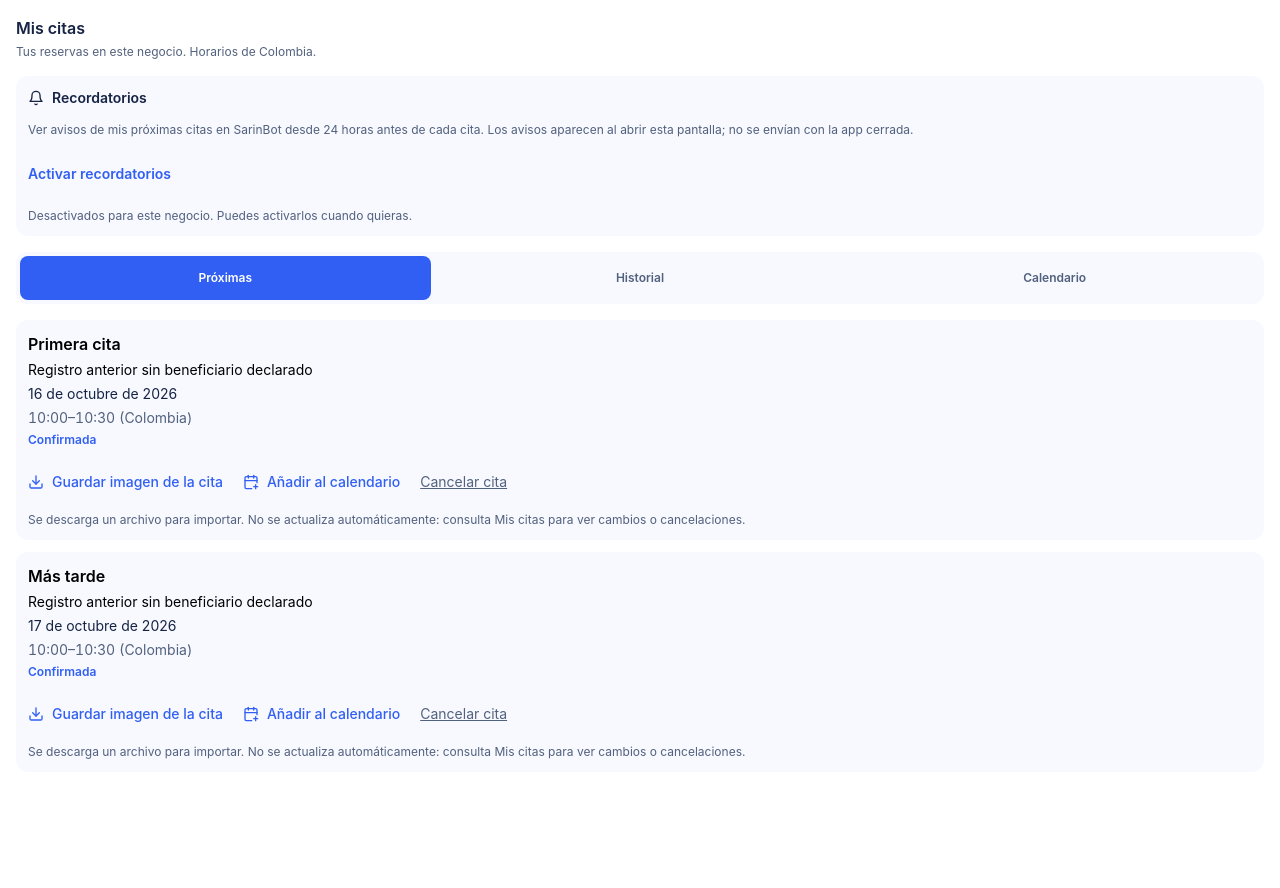
Test: the customer's appointments within one business › retains cancelled and past visits in descending history with honest status labels
Step 1. Click the button "Historial" → (640,278), box x1=435 y1=256 x2=845 y2=300
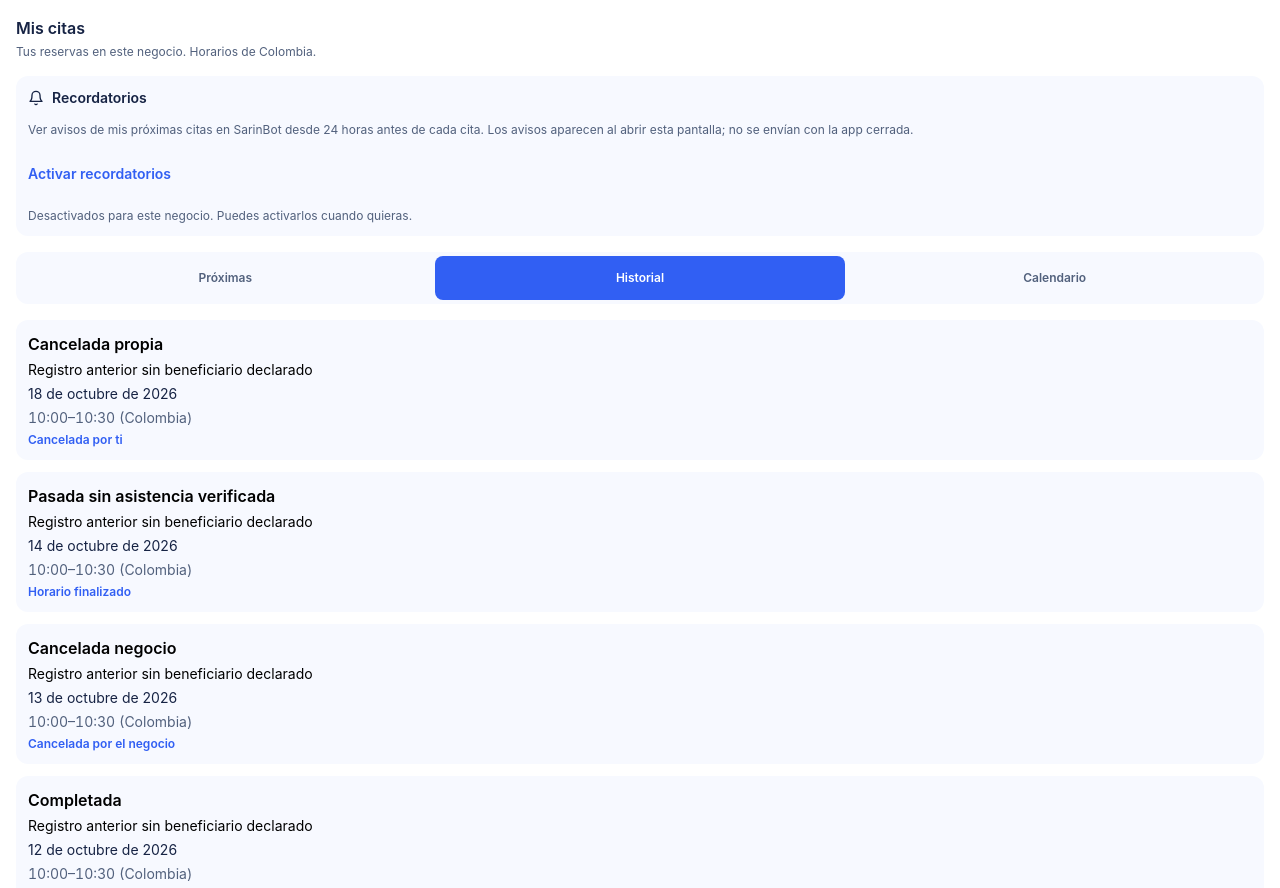
Now the text "Cancelada por ti" is shown, box x1=28 y1=432 x2=123 y2=446
Now the text "Cancelada por el negocio" is shown, box x1=28 y1=736 x2=175 y2=750
Now the text "Horario finalizado" is shown, box x1=28 y1=584 x2=131 y2=598
